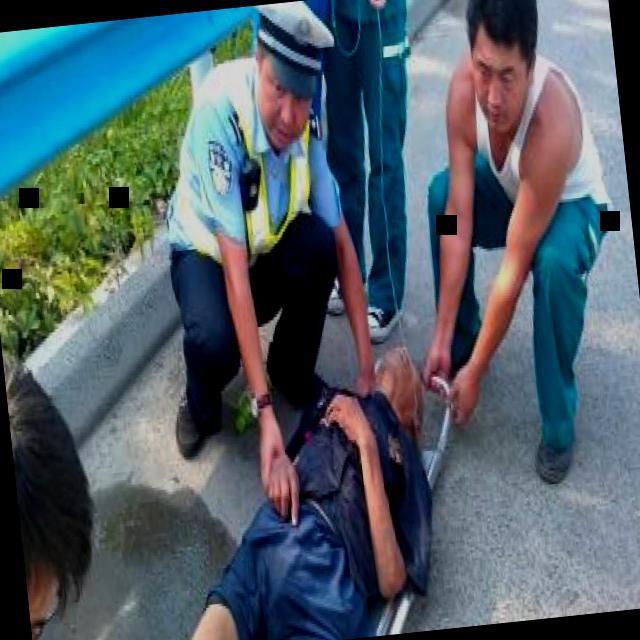Fall-Detected: (84, 315, 478, 640)
